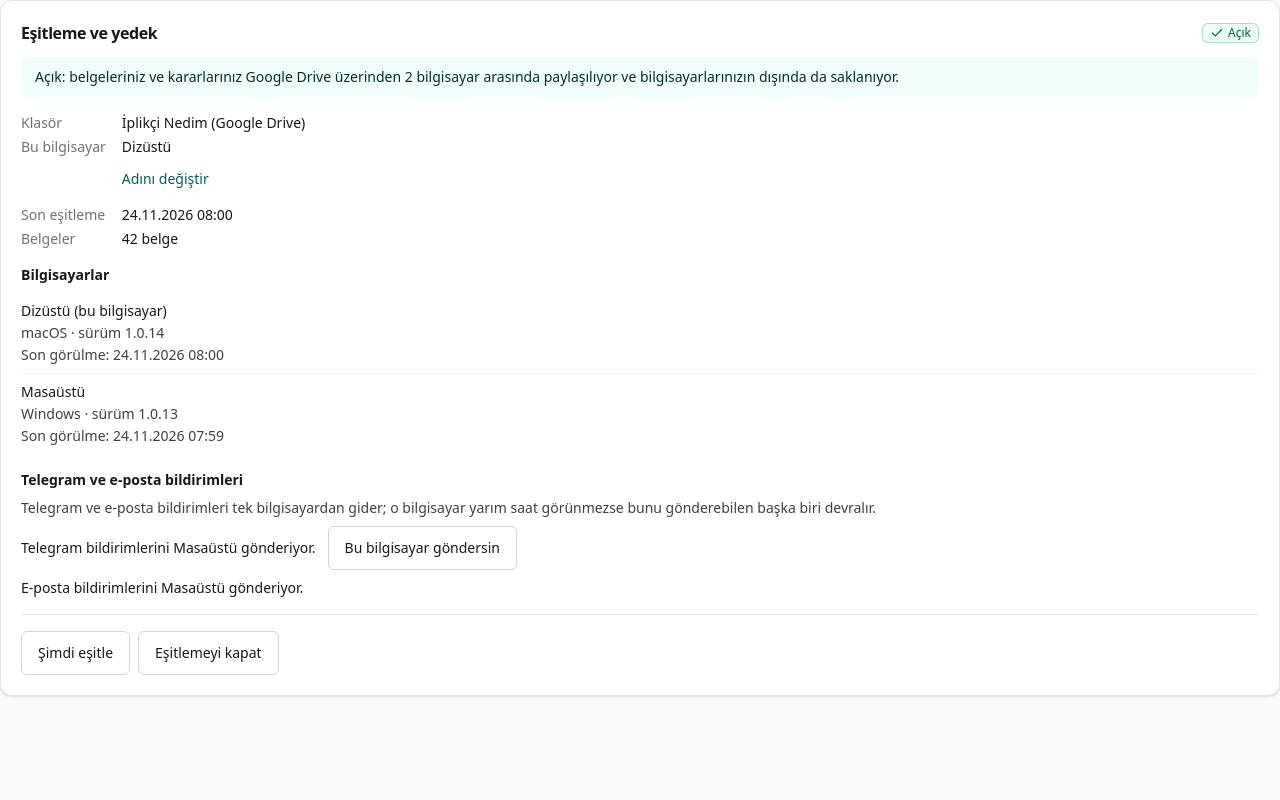
Test: SyncCard while the sync is on › renames this computer in place and gives the focus back to the button
Step 1. Click the button "Adını değiştir" → (165, 179), box [114,157,217,201]
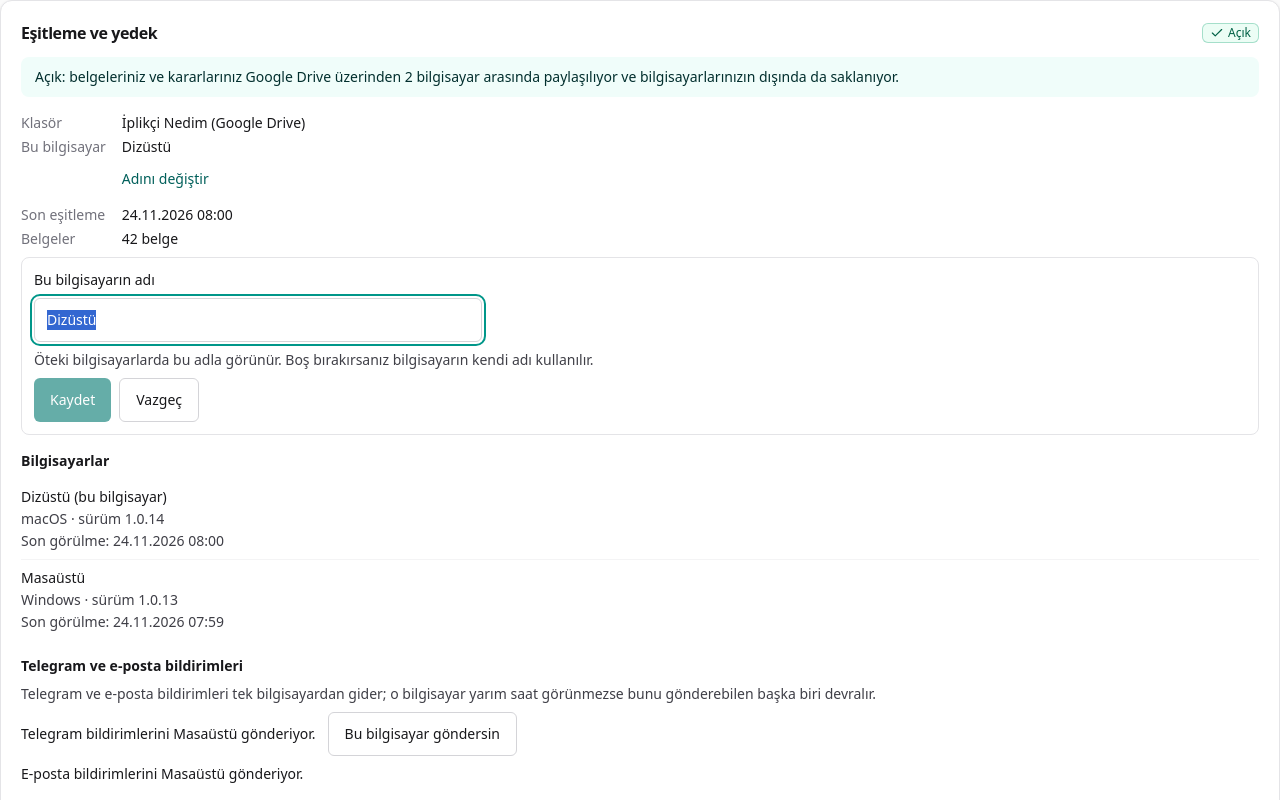
Expected: the field labelled "Bu bilgisayarın adı" holds "Dizüstü"
Step 2. Replace the text in the field labelled "Bu bilgisayarın adı" with "Ev" → (258, 320), box [34,298,482,342]
Then press Enter
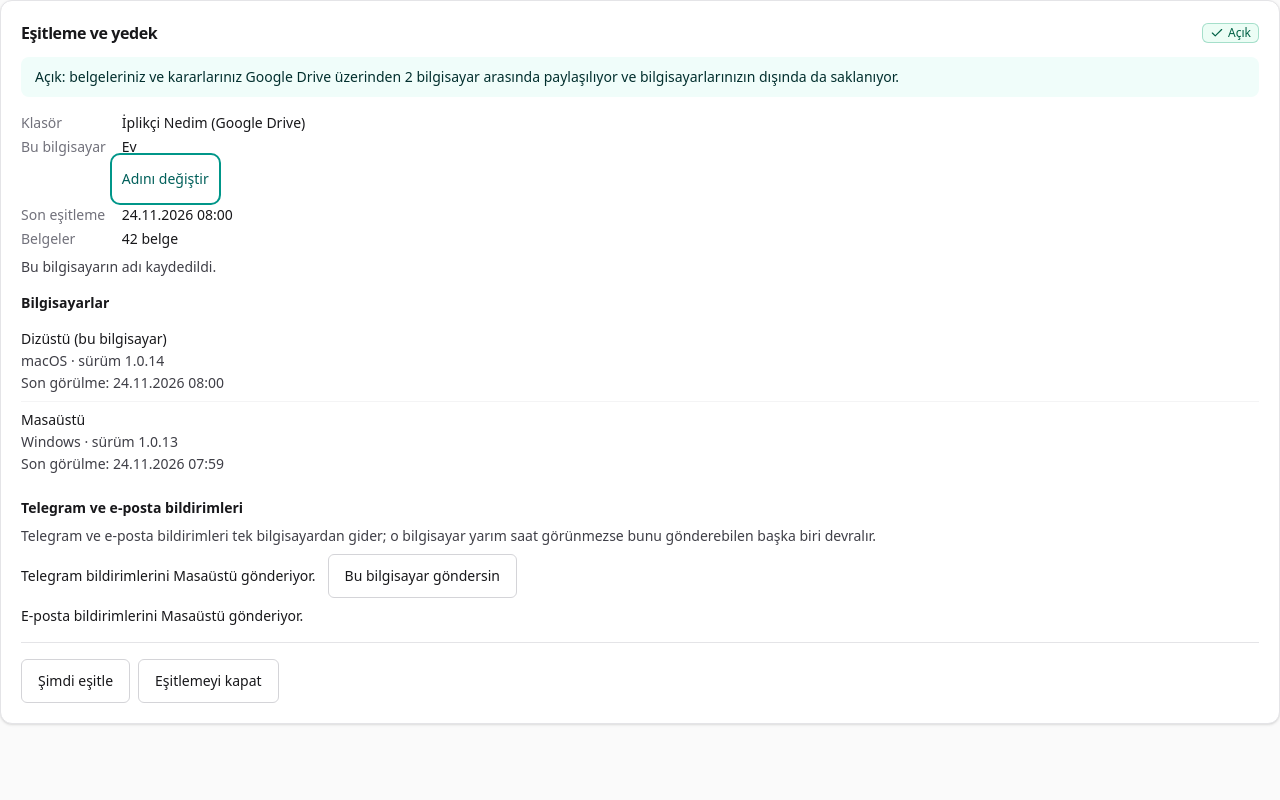
Expected: the text "Bu bilgisayarın adı kaydedildi." is shown, [21,257,216,276]
Expected: the text "Ev" is shown, [122,137,137,157]
